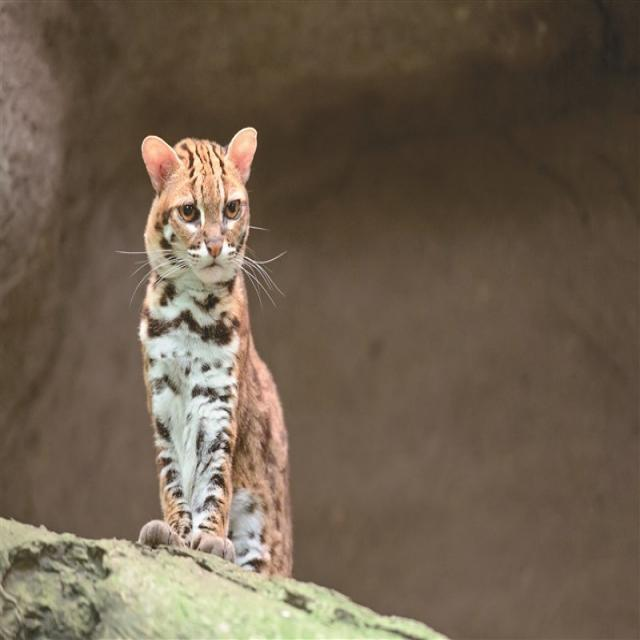leopard: (115, 98, 314, 603)
